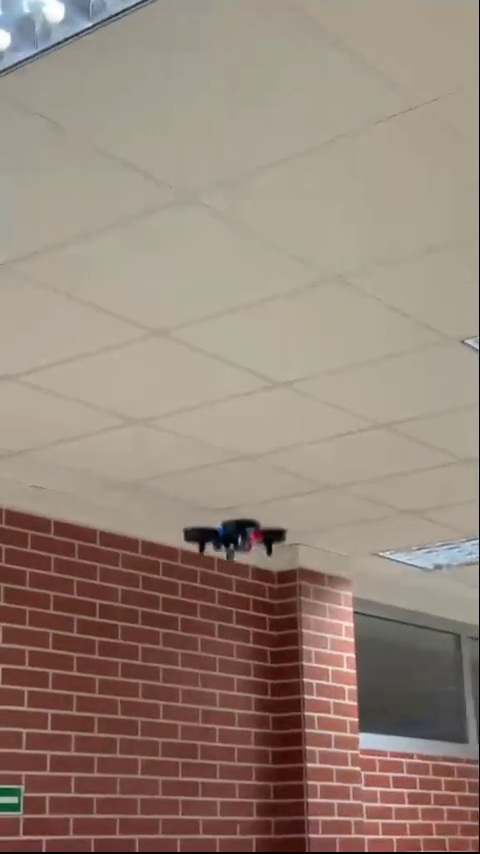drone: (186, 516, 284, 564)
